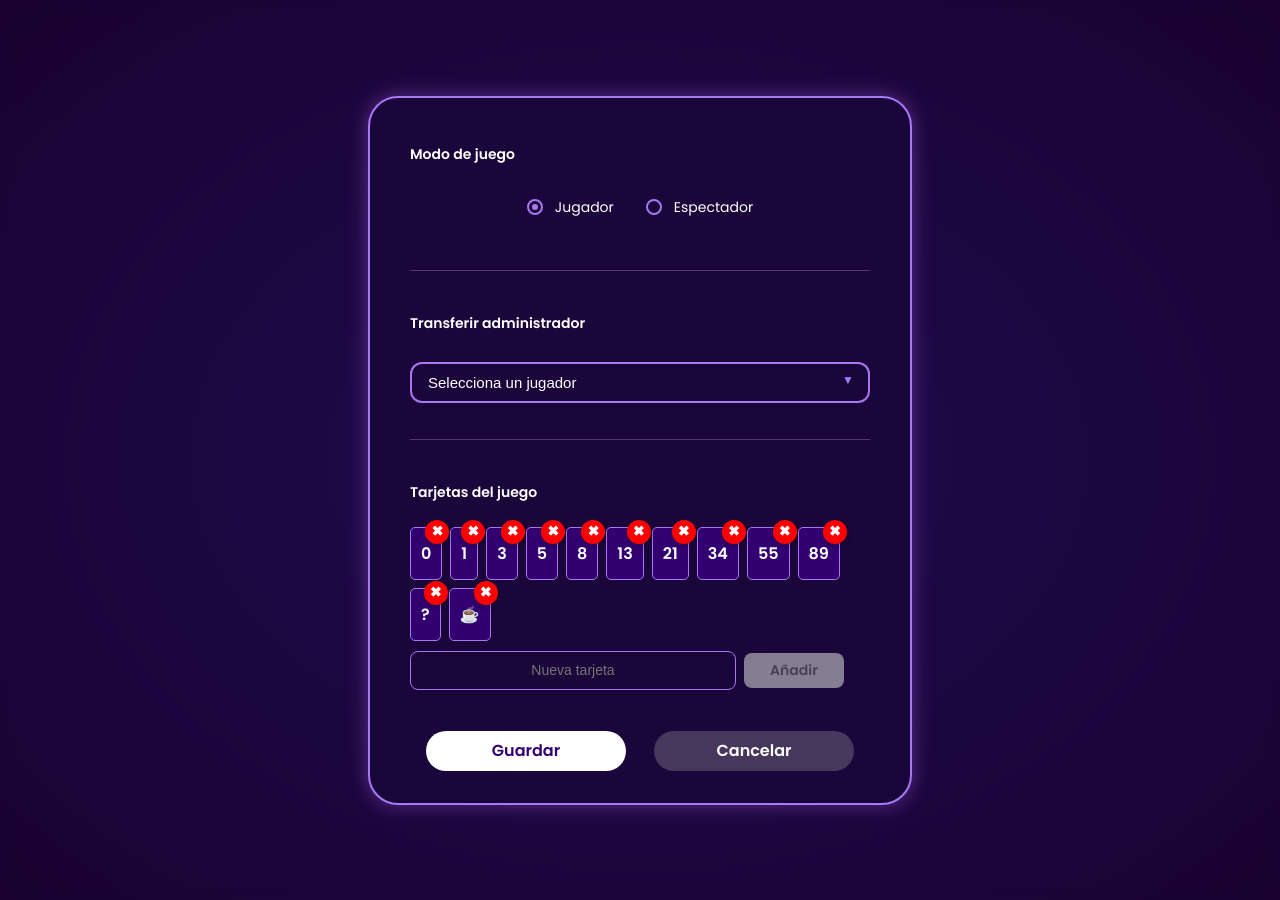
ModalUserSettings › debe añadir una nueva tarjeta válida
The width and height of the screenshot is (1280, 900).
Step 1. Type "42" into the field with placeholder "Nueva tarjeta" → (573, 670), box [410, 650, 736, 690]
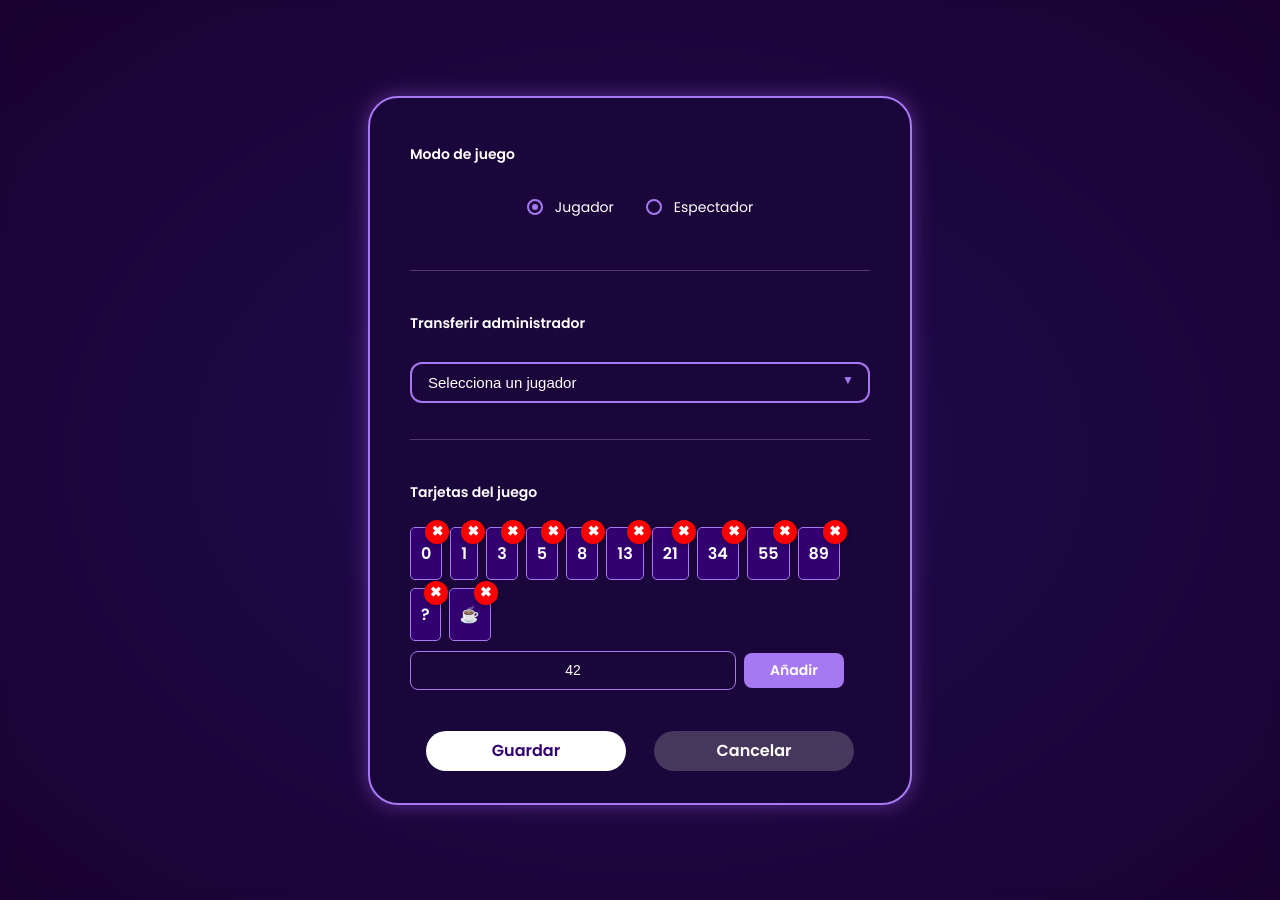
Step 2. Click the button "Añadir" → click(794, 670), box [744, 652, 844, 688]
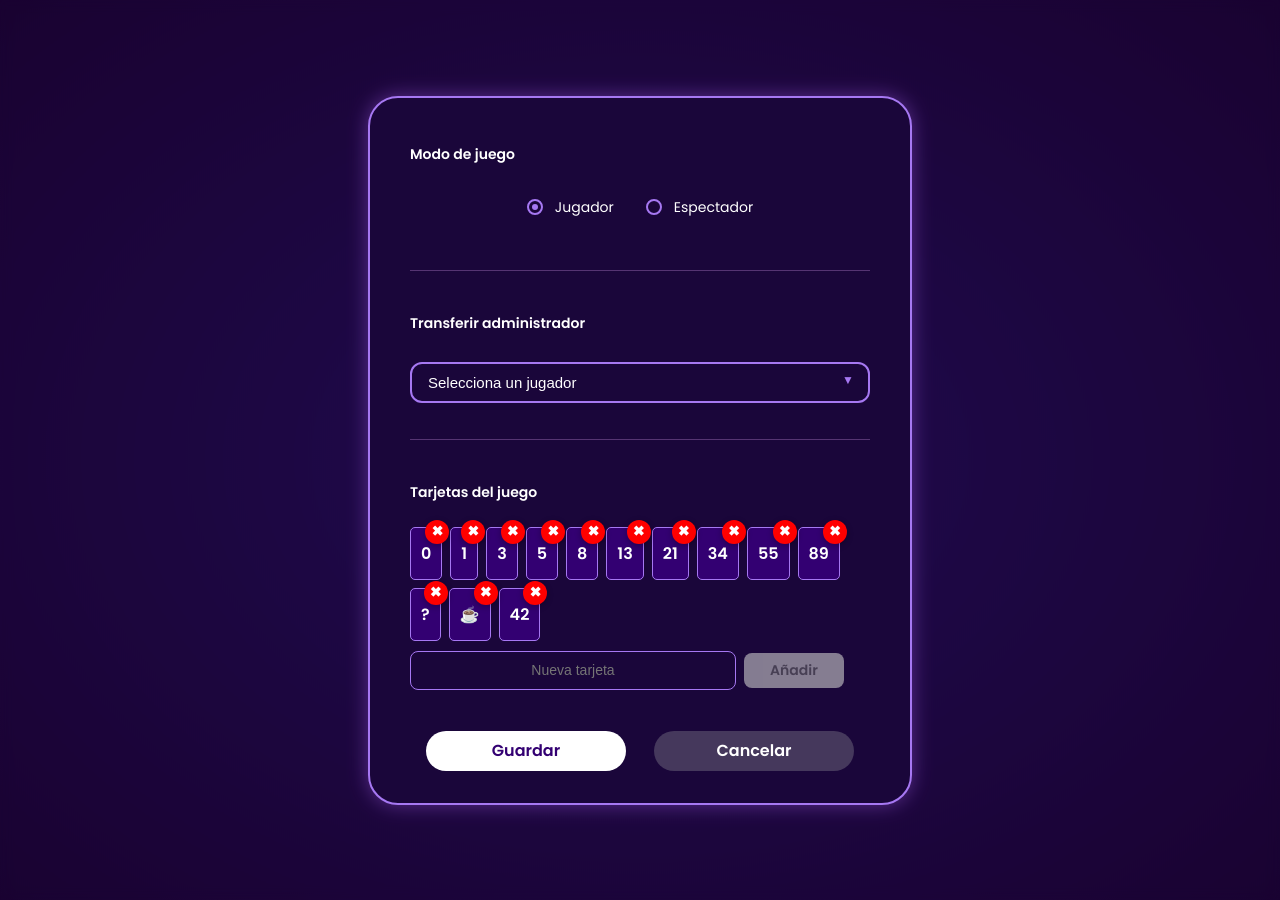
Expected: the button "42 ✖" is shown, [499, 588, 540, 640]
